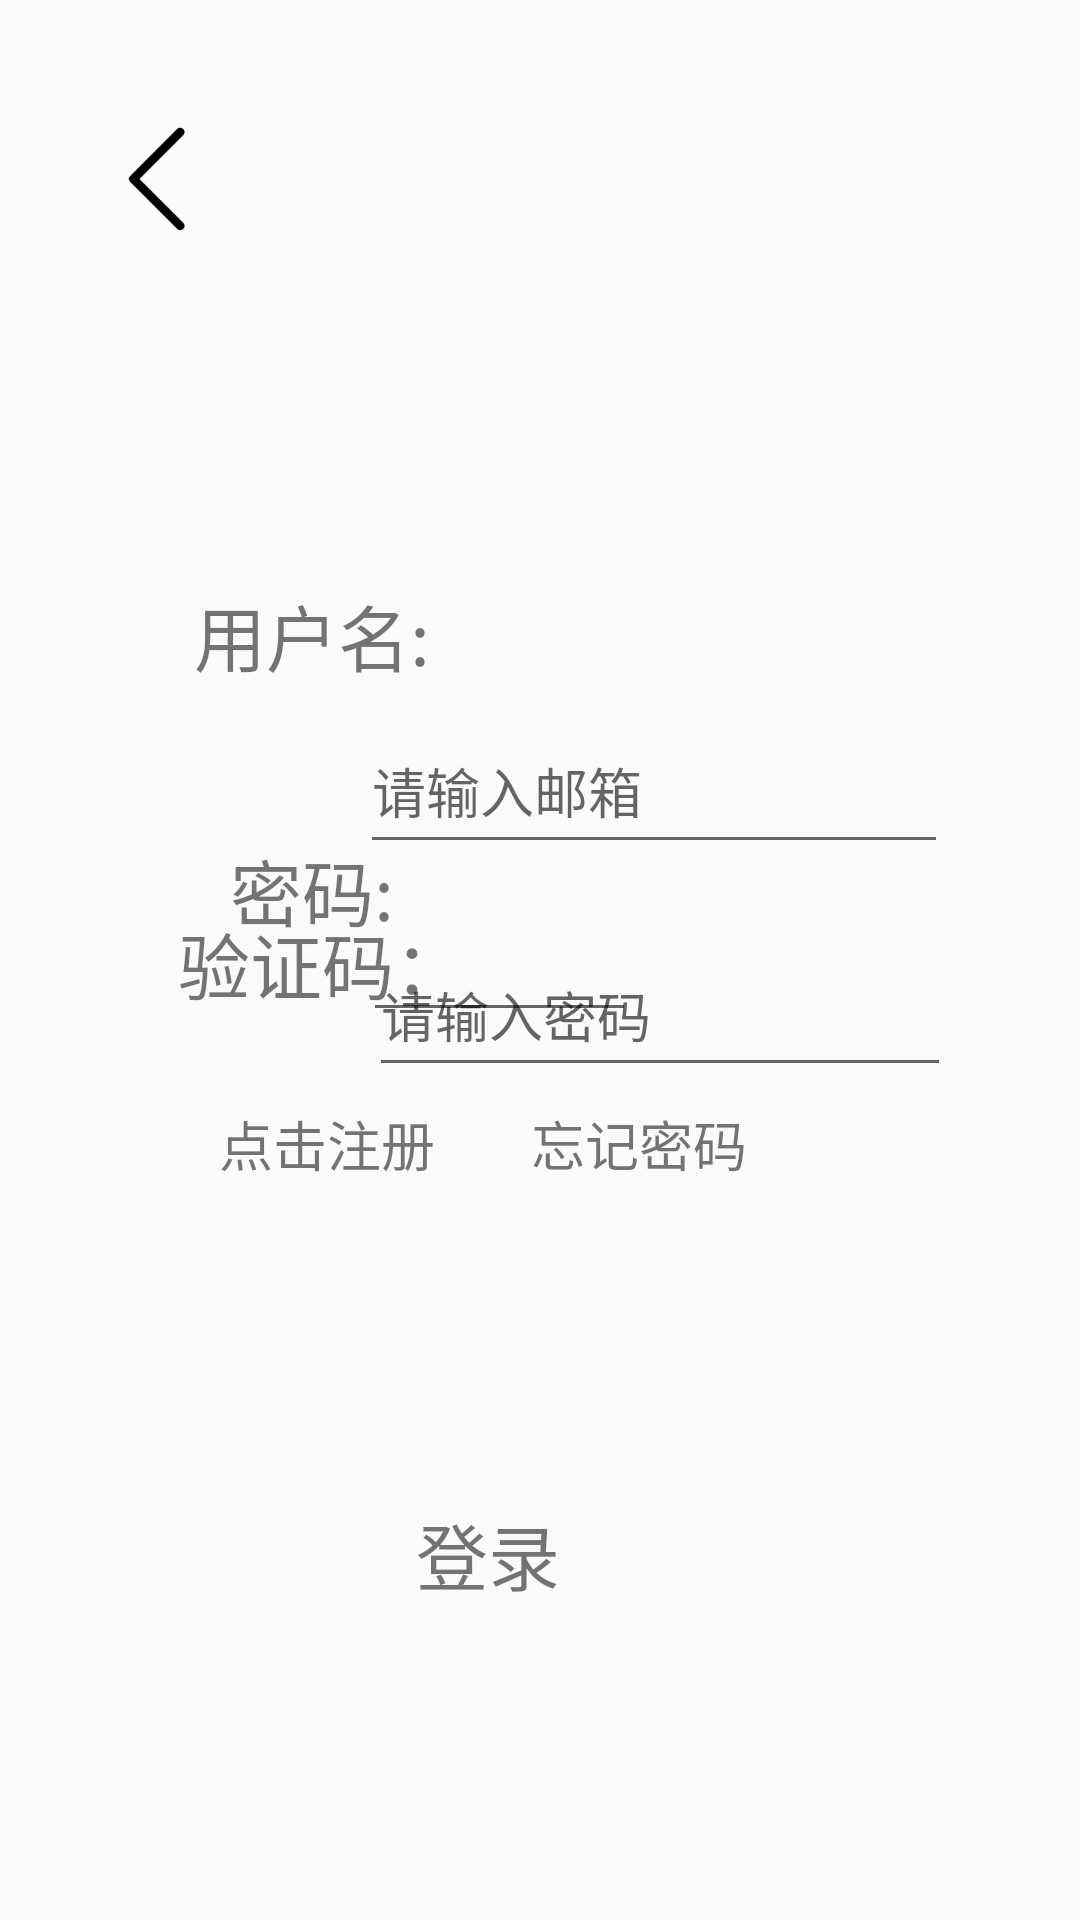

Icons on this 1080 x 1920 Android screen, each with its box as (x1, y1, x2, y2):
return: (128, 127, 185, 231)
